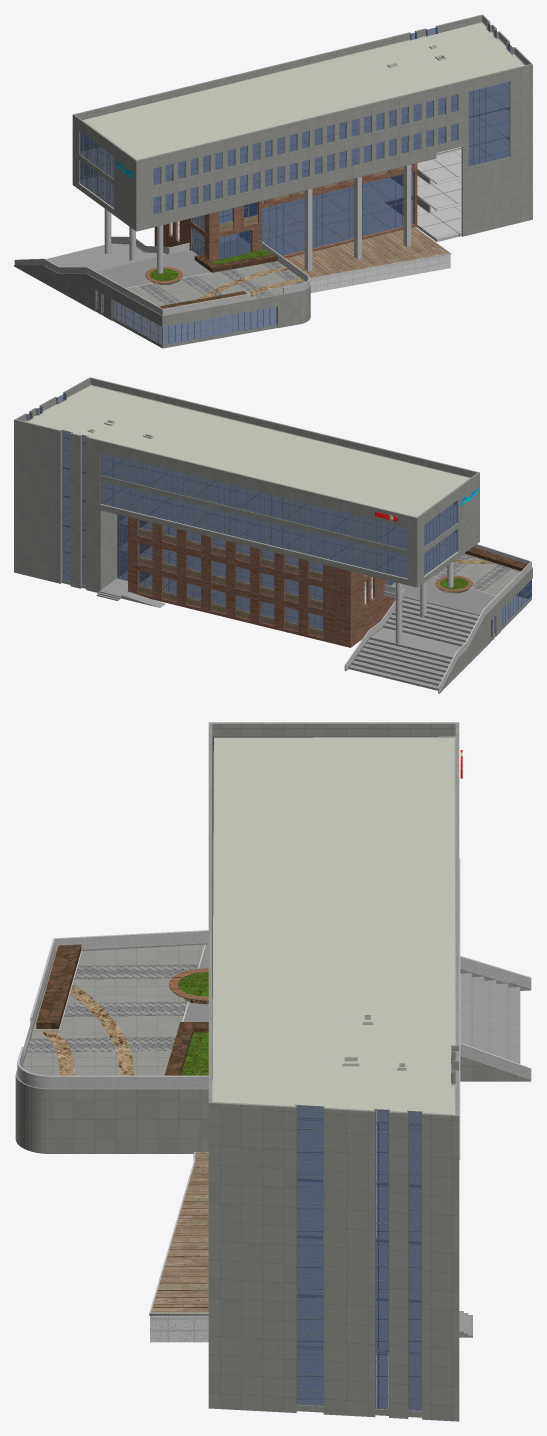
Rendered from officeBuild.gltf.
The picture shows the model from 3 angles, top to bottom: view 1: azimuth 30°, elevation 25°; view 2: azimuth 150°, elevation 25°; view 3: azimuth 270°, elevation 25°; orthographic projection. The views are drawn at different scales.
Visible parts, largest first — view 1: zuo1, zuoding, zuo5, zuo4, zuo2, zuo3; view 2: zuo1, zuoding, zuo5, zuo4, zuo2, zuo3; view 3: zuoding, zuo1, zuo5, zuo4, zuo3, zuo2.
Part boxes in pixels (x1,y1,x2,y2): zuo1: (14, 164, 532, 348); zuoding: (82, 22, 525, 159); zuo5: (72, 14, 532, 197); zuo4: (72, 101, 532, 226); zuo2: (163, 138, 532, 261); zuo3: (72, 130, 532, 238); zuo1: (14, 541, 532, 693); zuoding: (25, 384, 470, 516); zuo5: (14, 377, 479, 553); zuo4: (14, 456, 479, 582); zuo2: (14, 513, 395, 616); zuo3: (14, 484, 479, 590); zuoding: (212, 736, 455, 1126); zuo1: (15, 930, 531, 1421); zuo5: (208, 722, 462, 1187); zuo4: (208, 858, 460, 1245); zuo3: (208, 1232, 459, 1302); zuo2: (208, 1289, 459, 1359).
Size of the model in its own units: 173 by 62.1 by 87.22.
